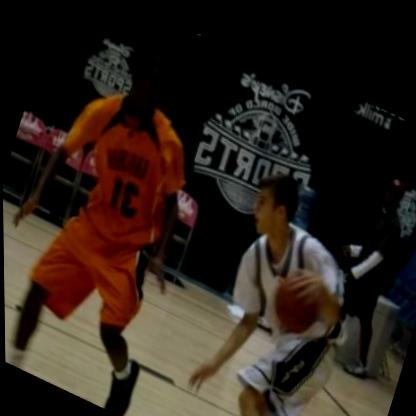basketball: (265, 247, 329, 329)
